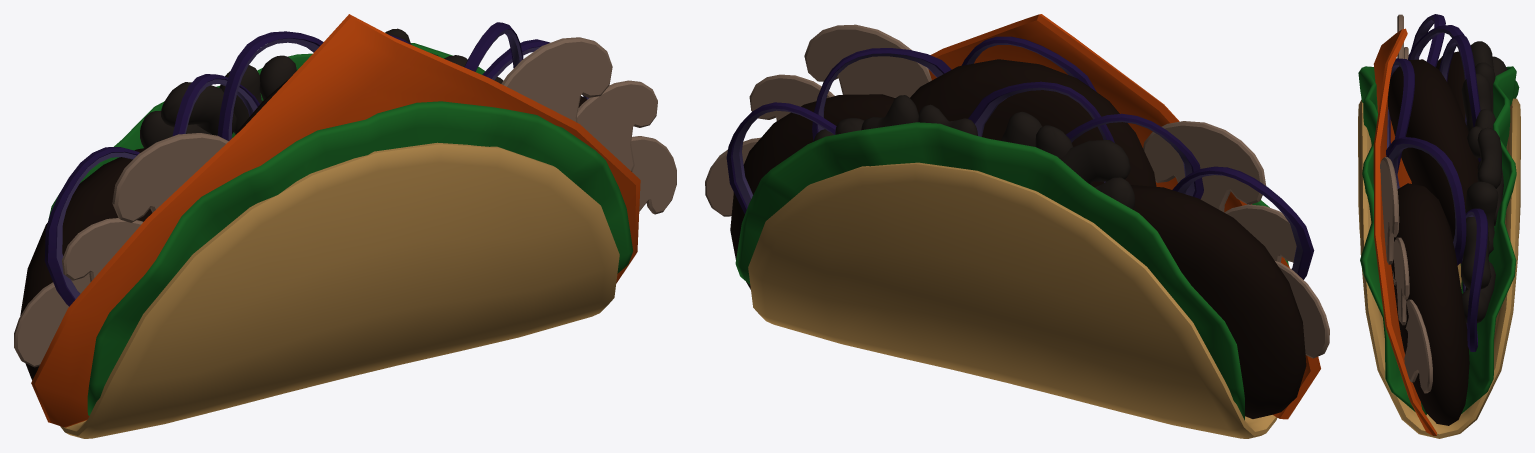
Rendered from Kebab.FBX.
3 views of the same model, side by side, from view 1: azimuth 30°, elevation 25°; view 2: azimuth 150°, elevation 25°; view 3: azimuth 270°, elevation 25° (orthographic). The views are drawn at different scales.
Visible parts, largest first — view 1: Kebab; view 2: Kebab; view 3: Kebab.
Boxes of the visible parts, left/top/right/bottom form: Kebab: left=14, top=14, right=676, bottom=438; Kebab: left=705, top=14, right=1329, bottom=438; Kebab: left=1358, top=14, right=1520, bottom=438.
Bounding box in the file's own units: 1283 × 332 × 698.
